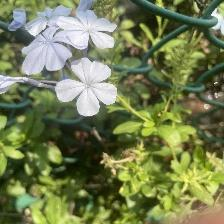chitrak: (54, 57, 124, 126), (57, 8, 120, 52), (23, 28, 72, 76), (13, 4, 73, 31)
